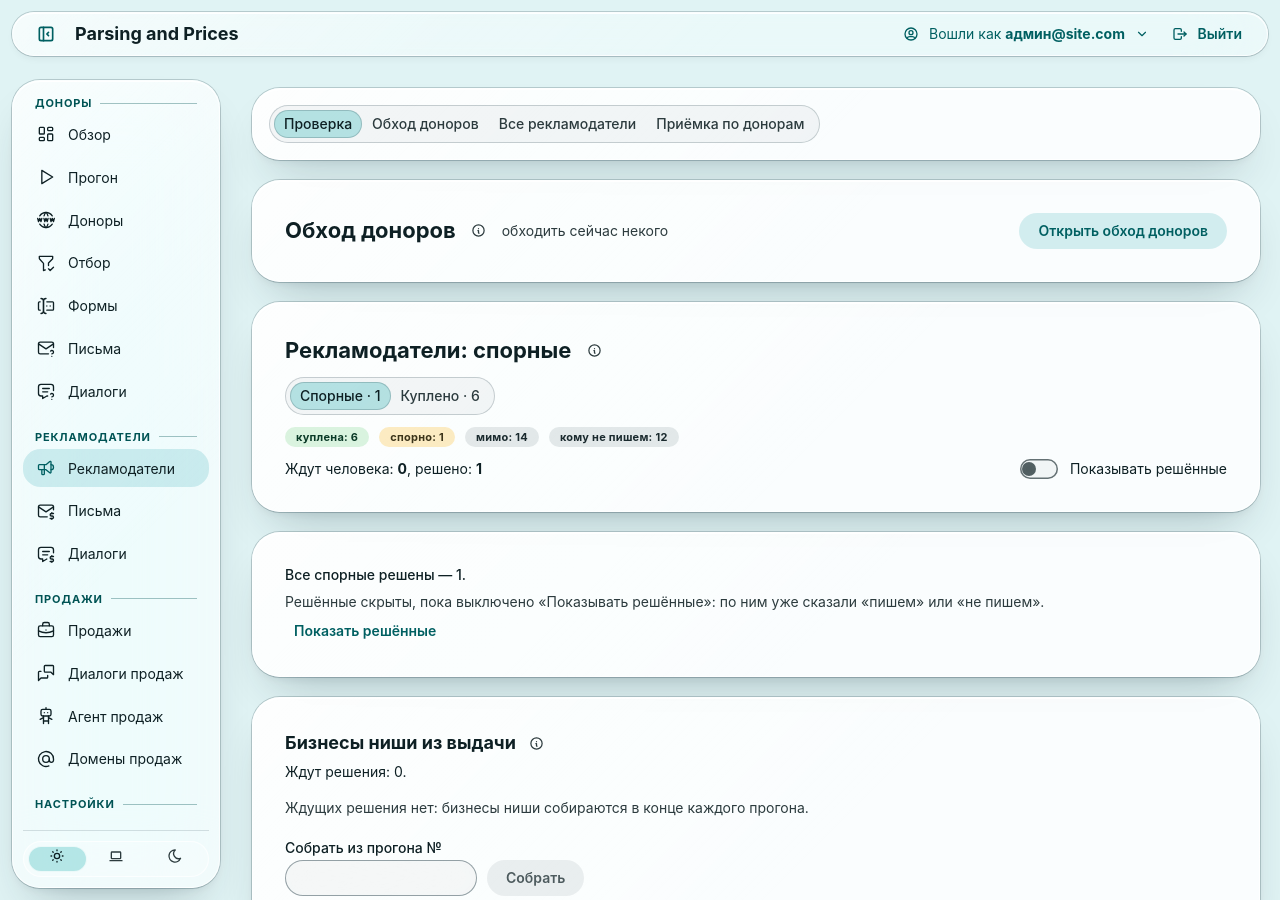
Test: числа и текст сходятся › «спорно: 1» при решённом спорном — не «спорных нет», а сколько решено и где их видно
The image size is (1280, 900).
Expected: the text "Все спорные решены — 1." is shown, [285,566,466,586]
Expected: the text "спорно: 1" is shown, [390,428,444,446]
Click the button "Показать решённые".
click(365, 631)  # box [285,618,445,644]
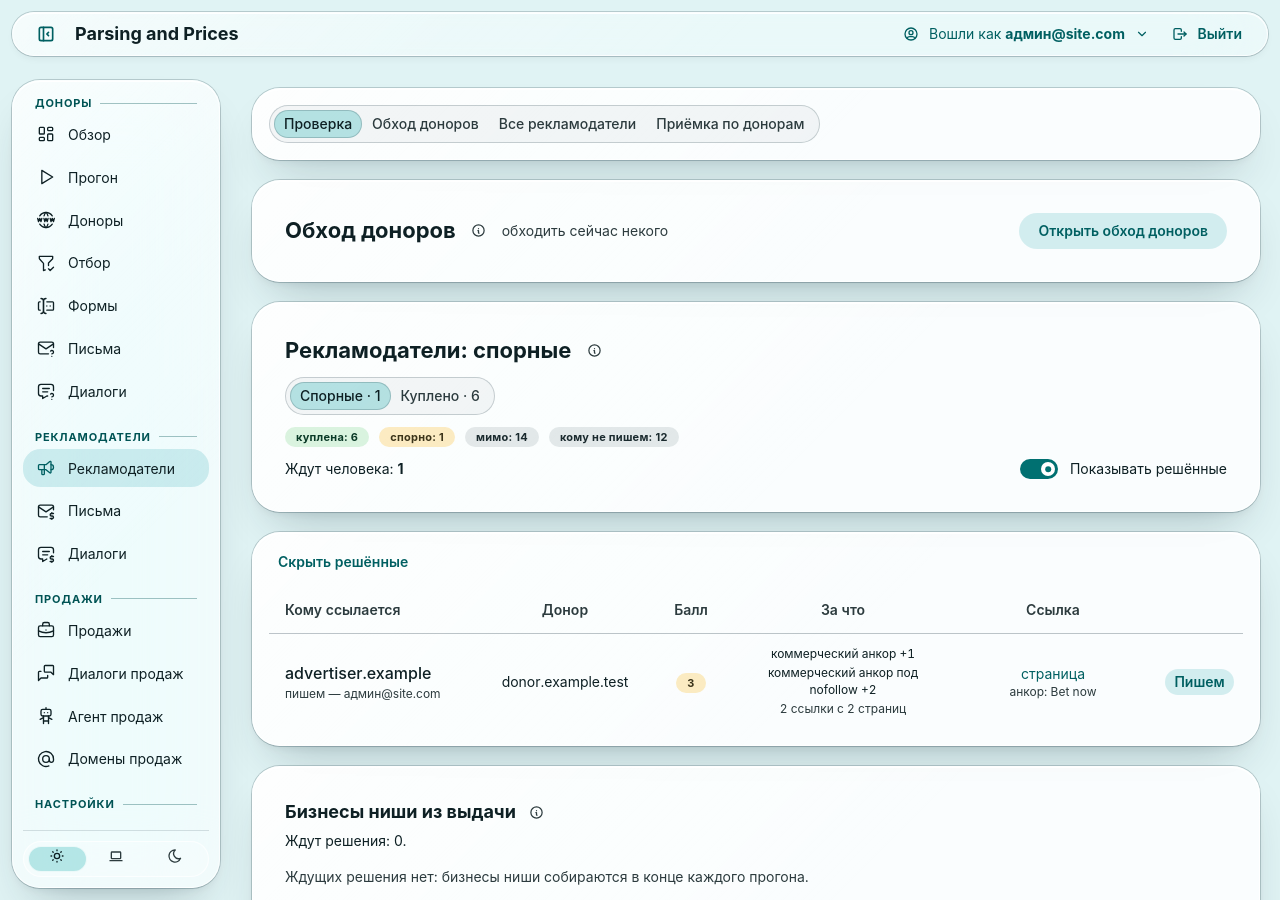
Now the link "advertiser.example" is shown, box [285,663,431,683]
Now the text "пишем — админ@site.com" is shown, box [285,686,461,703]
Now the switch labelled "Показывать решённые" is checked, box [1020,459,1227,479]
